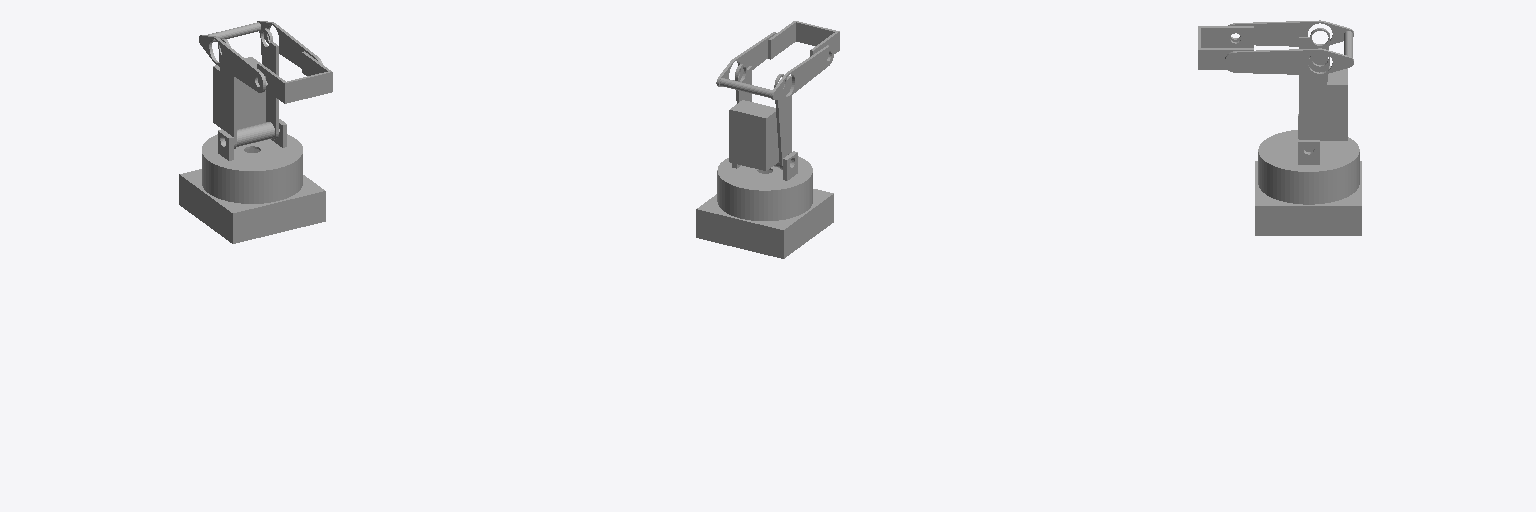
URDF robot description (urdf_simplified):
<?xml version="1.0" ?>
<!-- =================================================================================== -->
<!-- |    This document was autogenerated by xacro from [local-path]/catkin_ws/src/urdf_simplified_description/urdf/urdf_simplified.xacro | -->
<!-- |    EDITING THIS FILE BY HAND IS NOT RECOMMENDED                                 | -->
<!-- =================================================================================== -->
<robot name="urdf_simplified">
    <material name="silver">
        <color rgba="0.700 0.700 0.700 1.000" />
    </material>
    <transmission name="Revolute 1_tran">
        <type>transmission_interface/SimpleTransmission</type>
        <joint name="Revolute 1">
            <hardwareInterface>hardware_interface/EffortJointInterface</hardwareInterface>
        </joint>
        <actuator name="Revolute 1_actr">
            <hardwareInterface>hardware_interface/EffortJointInterface</hardwareInterface>
            <mechanicalReduction>1</mechanicalReduction>
        </actuator>
    </transmission>
    <transmission name="Revolute 2_tran">
        <type>transmission_interface/SimpleTransmission</type>
        <joint name="Revolute 2">
            <hardwareInterface>hardware_interface/PositionJointInterface</hardwareInterface>
        </joint>
        <actuator name="Revolute 2_actr">
            <hardwareInterface>hardware_interface/PositionJointInterface</hardwareInterface>
            <mechanicalReduction>1</mechanicalReduction>
        </actuator>
    </transmission>
    <transmission name="Revolute 3_tran">
        <type>transmission_interface/SimpleTransmission</type>
        <joint name="Revolute 3">
            <hardwareInterface>hardware_interface/PositionJointInterface</hardwareInterface>
        </joint>
        <actuator name="Revolute 3_actr">
            <hardwareInterface>hardware_interface/PositionJointInterface</hardwareInterface>
            <mechanicalReduction>1</mechanicalReduction>
        </actuator>
    </transmission>
    <transmission name="Revolute 4_tran">
        <type>transmission_interface/SimpleTransmission</type>
        <joint name="Revolute 4">
            <hardwareInterface>hardware_interface/PositionJointInterface</hardwareInterface>
        </joint>
        <actuator name="Revolute 4_actr">
            <hardwareInterface>hardware_interface/PositionJointInterface</hardwareInterface>
            <mechanicalReduction>1</mechanicalReduction>
        </actuator>
    </transmission>
    <gazebo>
        <plugin filename="libgazebo_ros_control.so" name="control" />
        <plugin name="gazebo_ros_control">
            <robotNamespace>/</robotNamespace>
        </plugin>
    </gazebo>
    <gazebo reference="base_link">
        <material>Gazebo/Silver</material>
        <mu1>0.2</mu1>
        <mu2>0.2</mu2>
        <selfCollide>true</selfCollide>
        <gravity>true</gravity>
    </gazebo>
    <gazebo reference="Component2_1">
        <material>Gazebo/Silver</material>
        <mu1>0.2</mu1>
        <mu2>0.2</mu2>
        <selfCollide>true</selfCollide>
    </gazebo>
    <gazebo reference="Component3_1">
        <material>Gazebo/Silver</material>
        <mu1>0.2</mu1>
        <mu2>0.2</mu2>
        <selfCollide>true</selfCollide>
    </gazebo>
    <gazebo reference="Component4_1">
        <material>Gazebo/Silver</material>
        <mu1>0.2</mu1>
        <mu2>0.2</mu2>
        <selfCollide>true</selfCollide>
    </gazebo>
    <gazebo reference="Component5_1">
        <material>Gazebo/Silver</material>
        <mu1>0.2</mu1>
        <mu2>0.2</mu2>
        <selfCollide>true</selfCollide>
    </gazebo>
    <link name="world">
        <visual>
            <origin rpy="0 0 0" xyz="0 0 0" />
            <geometry>
                <box size="0.000008 0.000008 0.000003" />
            </geometry>
        </visual>
    </link>
    <link name="base_link">
        <inertial>
            <origin rpy="0 0 0" xyz="-5.700880775444023e-15 -2.3388228822334454e-17 -0.008539058485288596" />
            <mass value="0.05152508507605951" />
            <inertia ixx="6.5e-05" ixy="-0.0" ixz="0.0" iyy="6.5e-05" iyz="-0.0" izz="0.000121" />
        </inertial>
        <visual>
            <origin rpy="0 0 0" xyz="0 0 0" />
            <geometry>
                <mesh filename="package://urdf_simplified_description/meshes/base_link.stl" scale="0.001 0.001 0.001" />
            </geometry>
            <material name="silver" />
        </visual>
        <collision>
            <origin rpy="0 0 0" xyz="0 0 0" />
            <geometry>
                <mesh filename="package://urdf_simplified_description/meshes/base_link.stl" scale="0.001 0.001 0.001" />
            </geometry>
        </collision>
    </link>
    <link name="Component2_1">
        <inertial>
            <origin rpy="0 0 0" xyz="6.754288398751157e-10 8.062612255736307e-08 0.022293335424730373" />
            <mass value="0.04301828993424946" />
            <inertia ixx="3.8e-05" ixy="0.0" ixz="-0.0" iyy="4e-05" iyz="-0.0" izz="6.6e-05" />
        </inertial>
        <visual>
            <origin rpy="0 0 0" xyz="-0.0 -0.0 -0.002" />
            <geometry>
                <mesh filename="package://urdf_simplified_description/meshes/Component2_1.stl" scale="0.001 0.001 0.001" />
            </geometry>
            <material name="silver" />
        </visual>
        <collision>
            <origin rpy="0 0 0" xyz="-0.0 -0.0 -0.002" />
            <geometry>
                <mesh filename="package://urdf_simplified_description/meshes/Component2_1.stl" scale="0.001 0.001 0.001" />
            </geometry>
        </collision>
    </link>
    <link name="Component3_1">
        <inertial>
            <origin rpy="0 0 0" xyz="-0.026 0.016858904245414866 0.029830953320340817" />
            <mass value="0.07759761667831801" />
            <inertia ixx="4.1e-05" ixy="-0.0" ixz="-0.0" iyy="4.5e-05" iyz="-2e-06" izz="2.4e-05" />
        </inertial>
        <visual>
            <origin rpy="0 0 0" xyz="-0.025 -0.0 -0.049" />
            <geometry>
                <mesh filename="package://urdf_simplified_description/meshes/Component3_1.stl" scale="0.001 0.001 0.001" />
            </geometry>
            <material name="silver" />
        </visual>
        <collision>
            <origin rpy="0 0 0" xyz="-0.025 -0.0 -0.049" />
            <geometry>
                <mesh filename="package://urdf_simplified_description/meshes/Component3_1.stl" scale="0.001 0.001 0.001" />
            </geometry>
        </collision>
    </link>
    <link name="Component4_1">
        <inertial>
            <origin rpy="0 0 0" xyz="-0.021515666357247706 -0.022058729538877265 -3.5313233675560163e-06" />
            <mass value="0.015212282444311782" />
            <inertia ixx="1.9e-05" ixy="0.0" ixz="0.0" iyy="1.2e-05" iyz="-0.0" izz="3e-05" />
        </inertial>
        <visual>
            <origin rpy="0 0 0" xyz="-0.021 -0.01 -0.134" />
            <geometry>
                <mesh filename="package://urdf_simplified_description/meshes/Component4_1.stl" scale="0.001 0.001 0.001" />
            </geometry>
            <material name="silver" />
        </visual>
        <collision>
            <origin rpy="0 0 0" xyz="-0.021 -0.01 -0.134" />
            <geometry>
                <mesh filename="package://urdf_simplified_description/meshes/Component4_1.stl" scale="0.001 0.001 0.001" />
            </geometry>
        </collision>
    </link>
    <link name="Component5_1">
        <inertial>
            <origin rpy="0 0 0" xyz="0.031149448590471997 -0.01645251032308831 0.0003726711981377473" />
            <mass value="0.008845043566948384" />
            <inertia ixx="3e-06" ixy="-0.0" ixz="0.0" iyy="4e-06" iyz="-0.0" izz="6e-06" />
        </inertial>
        <visual>
            <origin rpy="0 0 0" xyz="0.03 0.065 -0.133991" />
            <geometry>
                <mesh filename="package://urdf_simplified_description/meshes/Component5_1.stl" scale="0.001 0.001 0.001" />
            </geometry>
            <material name="silver" />
        </visual>
        <collision>
            <origin rpy="0 0 0" xyz="0.03 0.065 -0.133991" />
            <geometry>
                <mesh filename="package://urdf_simplified_description/meshes/Component5_1.stl" scale="0.001 0.001 0.001" />
            </geometry>
        </collision>
    </link>
    <joint name="base_link__link" type="fixed">
        <axis xyz="0 0 1" />
        <origin rpy="0 0 0" xyz="0 0 0.3" />
        <parent link="world" />
        <child link="base_link" />
    </joint>
    <joint name="Revolute 1" type="revolute">
        <origin rpy="0 0 0" xyz="0.0 0.0 0.002" />
        <limit effort="10.0" lower="-3.14" upper="3.14" velocity="0.0" />
        <parent link="base_link" />
        <child link="Component2_1" />
        <axis xyz="0.0 0.0 -1.0" />
    </joint>
    <joint name="Revolute 2" type="revolute">
        <origin rpy="0 0 0" xyz="0.025 0.0 0.047" />
        <limit effort="10.0" lower="-3.14" upper="3.14" velocity="0.0" />
        <parent link="Component2_1" />
        <child link="Component3_1" />
        <axis xyz="1.0 0.0 0.0" />
    </joint>
    <joint name="Revolute 3" type="revolute">
        <origin rpy="0 0 0" xyz="-0.004 0.01 0.085" />
        <limit effort="10.0" lower="-3.14" upper="3.14" velocity="0.0" />
        <parent link="Component3_1" />
        <child link="Component4_1" />
        <axis xyz="-1.0 0.0 0.0" />
    </joint>
    <joint name="Revolute 4" type="revolute">
        <origin rpy="0 0 0" xyz="-0.051 -0.075 -9e-06" />
        <limit effort="10.0" lower="-3.14" upper="3.14" velocity="0.0" />
        <parent link="Component4_1" />
        <child link="Component5_1" />
        <axis xyz="-1.0 0.0 0.0" />
    </joint>
</robot>

--- Render facts (derived) ---
Views: 3 orthographic renders of the robot side by side, from view 1: azimuth 30°, elevation 25°; view 2: azimuth 150°, elevation 25°; view 3: azimuth 270°, elevation 25°.
Model urdf_simplified with 6 links and 5 joints (4 revolute, 1 fixed), rooted at world, posed all joints at 0.
Visible links, largest first — view 1: Component2_1, base_link, Component3_1, Component4_1, Component5_1; view 2: Component2_1, base_link, Component3_1, Component4_1, Component5_1; view 3: Component2_1, Component4_1, Component3_1, base_link, Component5_1.
Link boxes in pixels (x1,y1,x2,y2): Component2_1: (202,119,302,203); base_link: (179,169,325,243); Component3_1: (213,28,278,148); Component4_1: (199,21,322,92); Component5_1: (257,51,332,103); Component2_1: (717,151,812,220); base_link: (696,189,833,258); Component3_1: (729,64,791,170); Component4_1: (716,32,833,99); Component5_1: (768,21,839,59); Component2_1: (1258,114,1359,204); Component4_1: (1225,20,1353,74); Component3_1: (1299,28,1347,151); base_link: (1255,161,1361,235); Component5_1: (1198,26,1253,69).
Bounding box of the posed robot: 0.095 × 0.1464 × 0.4465 m (x, y, z).
Meshes: 5 distinct files referenced, 5 mesh visuals loaded (5 binary STL).